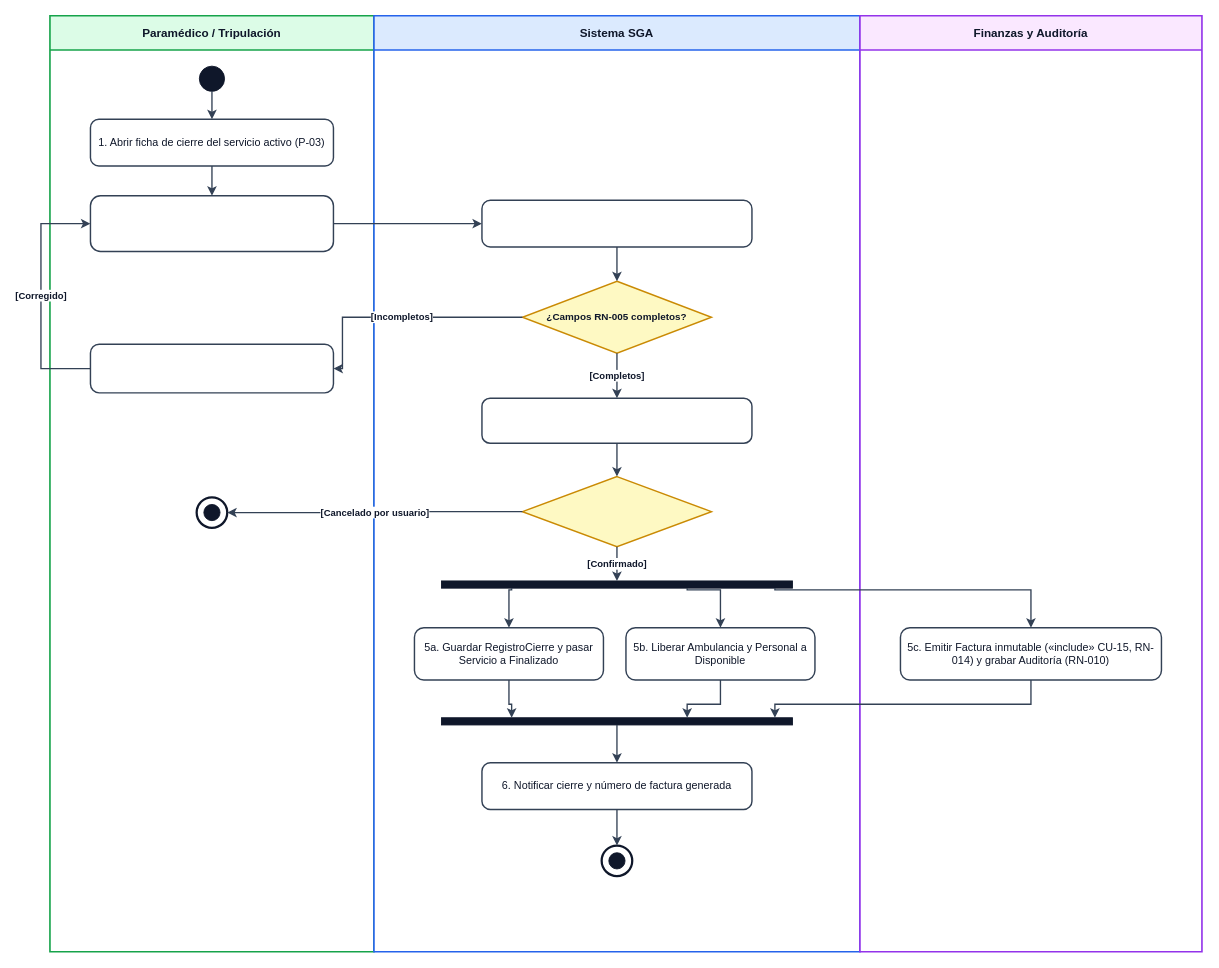
Image size: 1219x968. Some labels were removed from this diagram. The shapes that lost their labels are listed below. From the top down, each one's centre as x and y in pixels, then its label:
[211,223]: 2. Ingresar resultado, estado paciente, destino y responsable (RN-005)
[616,223]: 3. Validar completitud RN-005 y estado En atención/Traslado
[211,368]: Completar campos faltantes señalados (E1)
[616,420]: 4. Solicitar confirmación explícita de cierre (RNF-007)
[616,511]: ¿Confirmación aprobada?
